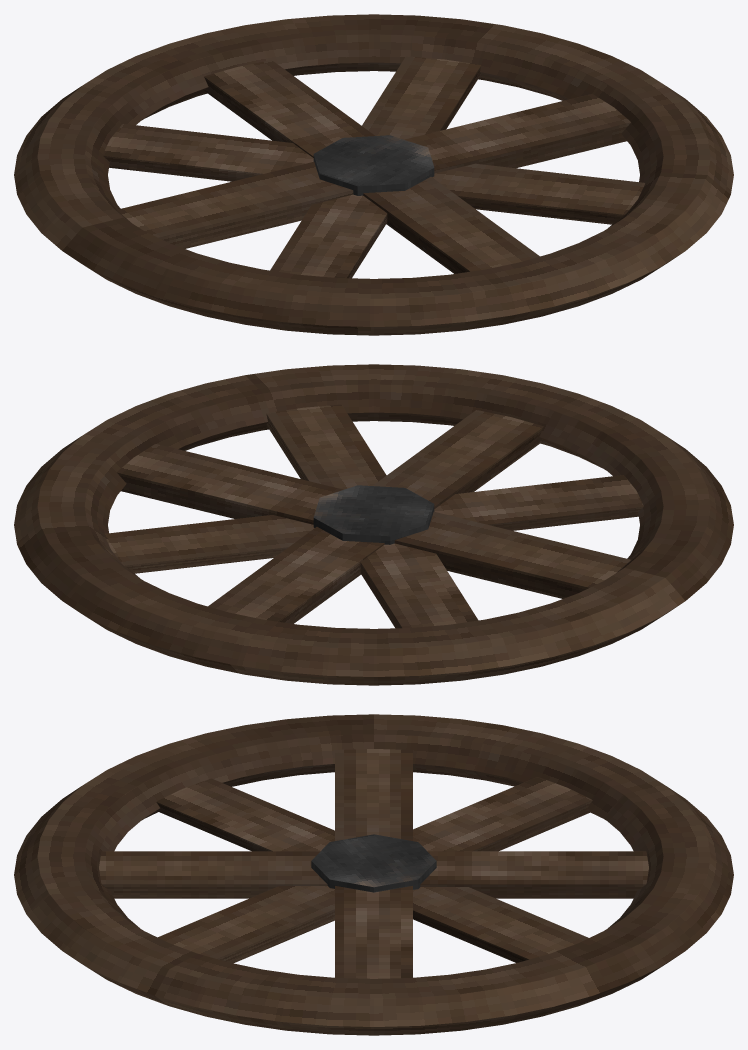
Rendered from Wheel.fbx.
3 renders of one model, top to bottom at view 1: azimuth 30°, elevation 25°; view 2: azimuth 150°, elevation 25°; view 3: azimuth 270°, elevation 25°, orthographic.
Visible parts, largest first — view 1: Wheel; view 2: Wheel; view 3: Wheel.
Part boxes in pixels (x1,y1,x2,y2): Wheel: (14, 14, 733, 335); Wheel: (14, 364, 733, 685); Wheel: (14, 714, 733, 1035).
Bounding box in the file's own units: 230 × 12.99 × 230.
Materials: 2 (2 with a texture image).
